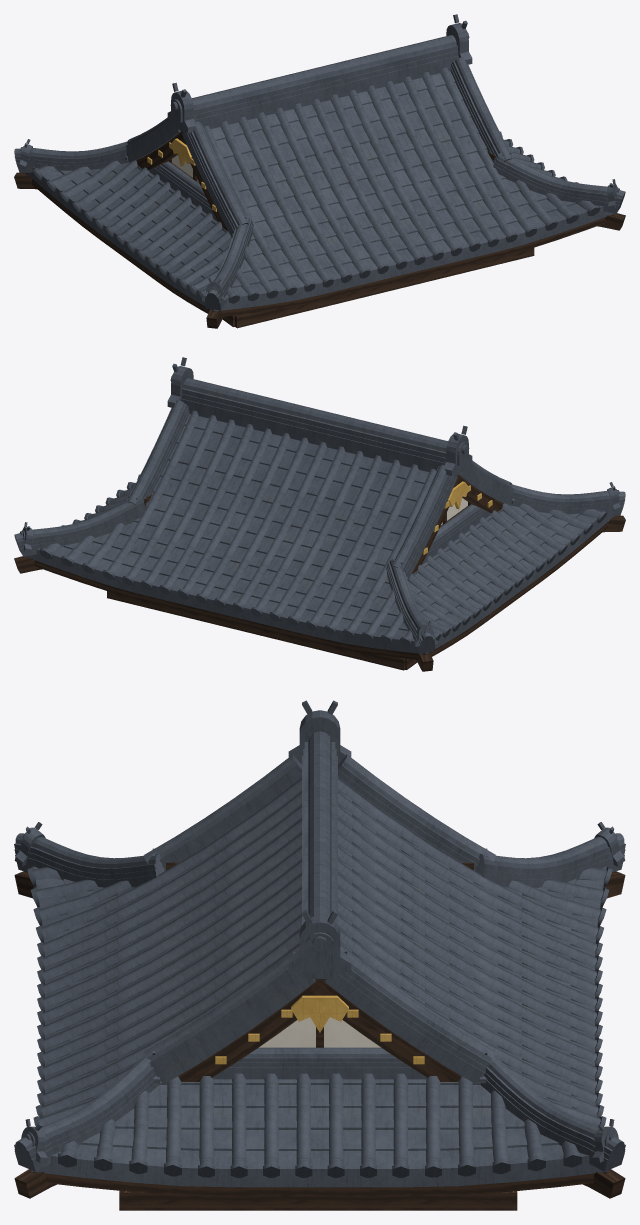
Rendered from HO_Roof_Irimoya_Small.fbx.
The picture shows the model from 3 angles, top to bottom: view 1: azimuth 30°, elevation 25°; view 2: azimuth 150°, elevation 25°; view 3: azimuth 270°, elevation 25°; orthographic projection. The views are drawn at different scales.
Parts seen in each view (by area): view 1: HO_Roof_Irimoya_Small_Tiles, HO_Roof_Irimoya_Small_Frame__Timber_Dark, HO_Roof_Irimoya_Small_Frame__Gold_Leaf; view 2: HO_Roof_Irimoya_Small_Tiles, HO_Roof_Irimoya_Small_Frame__Timber_Dark, HO_Roof_Irimoya_Small_Frame__Gold_Leaf; view 3: HO_Roof_Irimoya_Small_Tiles, HO_Roof_Irimoya_Small_Frame__Timber_Dark, HO_Roof_Irimoya_Small_Frame__Plaster_White, HO_Roof_Irimoya_Small_Frame__Gold_Leaf.
Part boxes in pixels (<box>): HO_Roof_Irimoya_Small_Tiles: <box>14,14,625,311</box>; HO_Roof_Irimoya_Small_Frame__Timber_Dark: <box>14,131,625,328</box>; HO_Roof_Irimoya_Small_Frame__Gold_Leaf: <box>147,138,216,211</box>; HO_Roof_Irimoya_Small_Tiles: <box>14,357,625,654</box>; HO_Roof_Irimoya_Small_Frame__Timber_Dark: <box>14,474,625,671</box>; HO_Roof_Irimoya_Small_Frame__Gold_Leaf: <box>423,481,492,554</box>; HO_Roof_Irimoya_Small_Tiles: <box>14,700,625,1187</box>; HO_Roof_Irimoya_Small_Frame__Timber_Dark: <box>14,862,625,1210</box>; HO_Roof_Irimoya_Small_Frame__Plaster_White: <box>126,1017,513,1191</box>; HO_Roof_Irimoya_Small_Frame__Gold_Leaf: <box>215,995,424,1064</box>.
Size of the model in its own units: 22.91 by 10.01 by 18.91.
